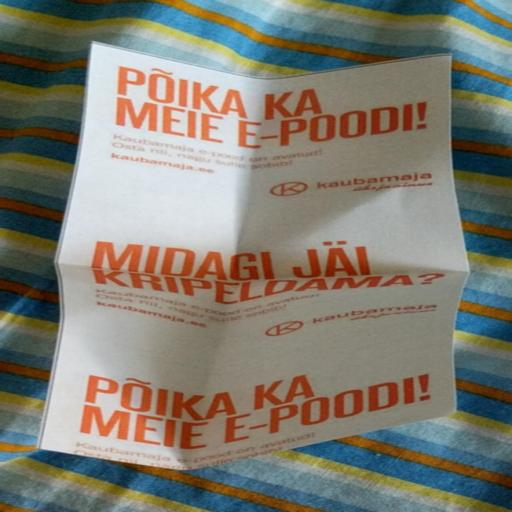paper: (18, 0, 478, 512)
